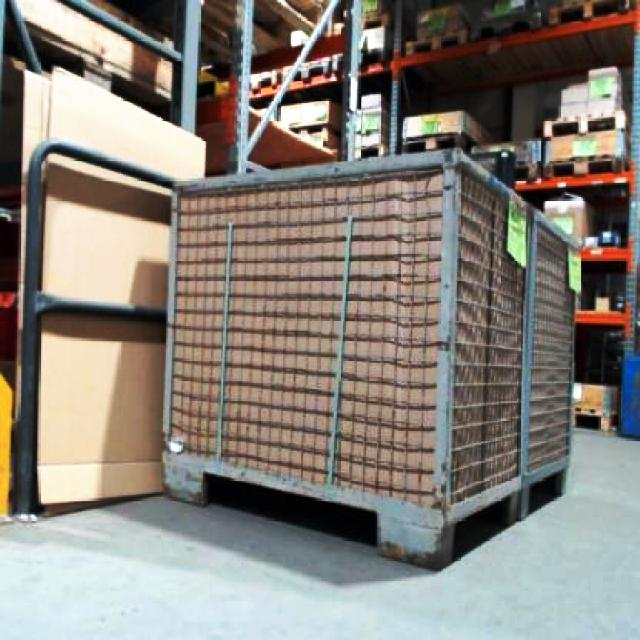ground: (0, 423, 638, 638)
pallet: (158, 145, 582, 569), (228, 0, 638, 437), (0, 63, 206, 518), (511, 162, 638, 435), (0, 182, 18, 532), (0, 349, 14, 531)
